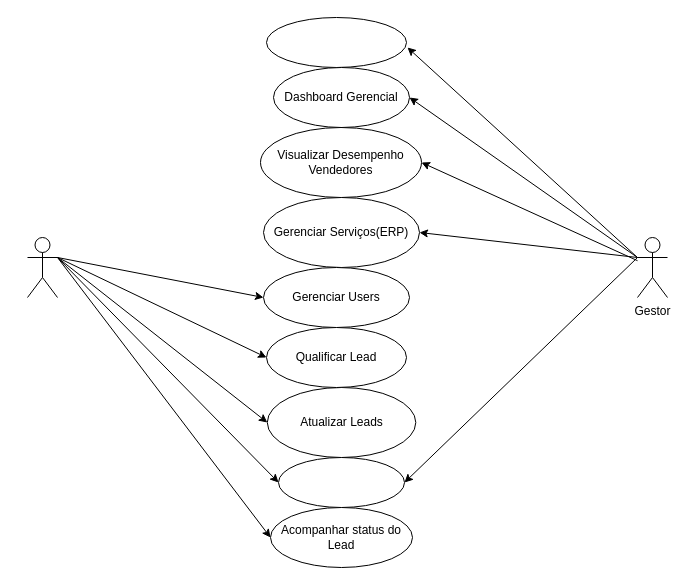
Image size: 688x585. Some labels were removed from this diagram. The centre of each missing label's shape, as x and y in pixels:
Vendedor: (42,267)
Ver Leads: (341,482)
Vizualizar Métricas Globais: (336,42)
